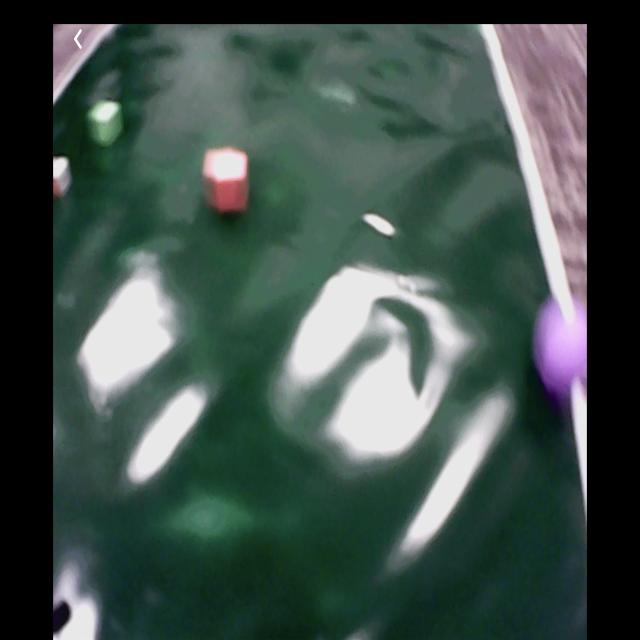ball: (532, 294, 589, 401)
